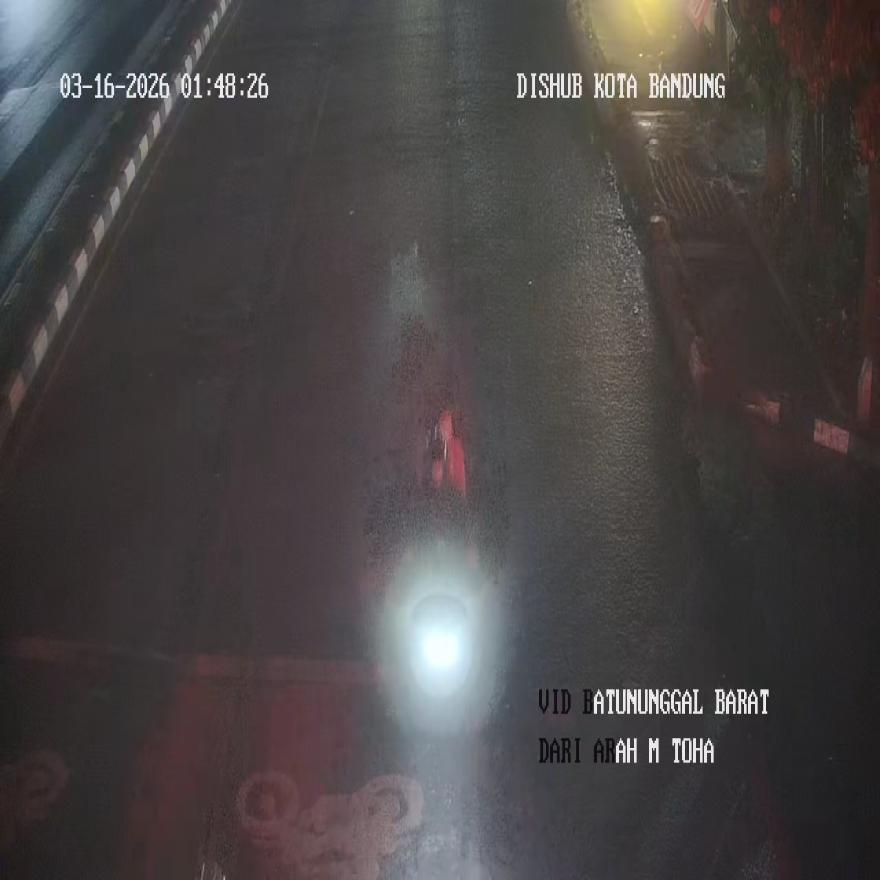Truk: (387, 411, 494, 728)
